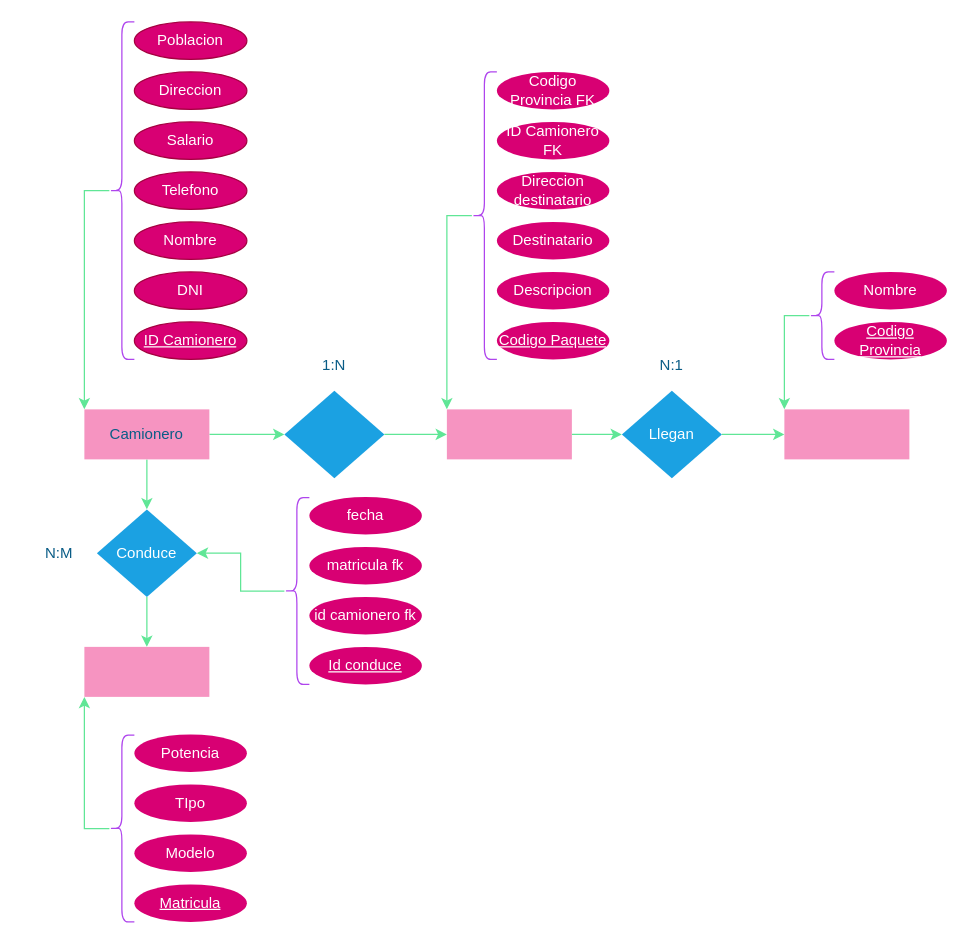
The diagram is 968 pixels wide and 944 high, and some of its shapes have lost their labels. The shapes that lost their labels are listed below. From the top down, each one's box as (x1, y1, x2, y2) in pixels, then its label:
(284, 390, 384, 478): Lleva
(446, 409, 571, 459): Paquete
(784, 409, 909, 459): Provincia
(84, 646, 209, 696): Camion
